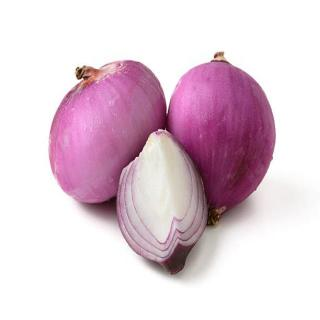Bawang Merah: (168, 48, 280, 230)
